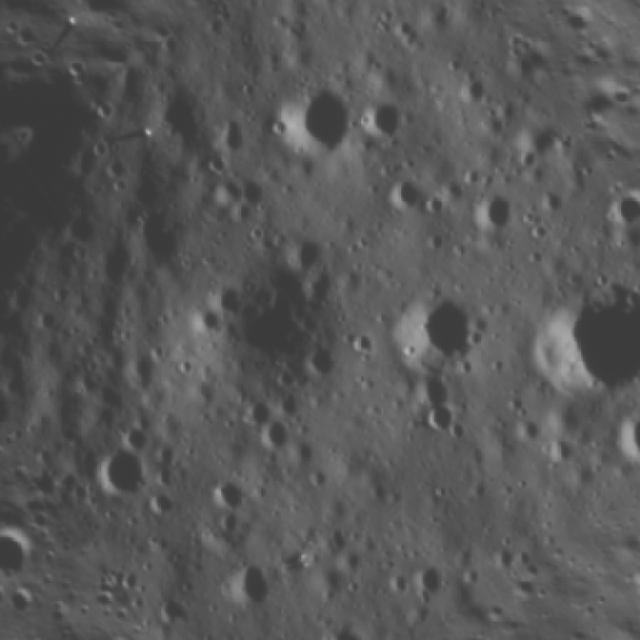crater: (517, 268, 640, 421), (384, 282, 499, 389), (264, 78, 358, 173), (78, 437, 160, 518), (185, 468, 258, 548), (218, 552, 288, 620), (393, 550, 459, 615), (371, 163, 435, 225), (468, 188, 524, 247), (607, 394, 640, 483), (363, 96, 415, 150), (250, 405, 304, 457), (411, 396, 462, 444), (0, 359, 31, 433), (190, 299, 228, 339), (346, 328, 383, 366), (310, 620, 378, 640), (167, 348, 202, 386), (114, 566, 146, 600), (606, 195, 636, 228)
